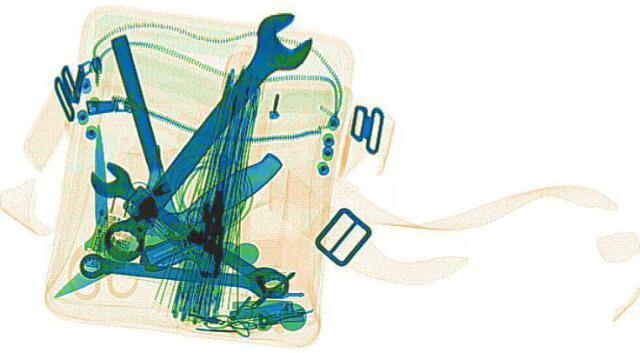Gun: (142, 188, 226, 273)
Knife: (35, 150, 299, 299), (106, 33, 184, 244), (80, 123, 114, 248)
Wrench: (86, 8, 330, 261), (72, 159, 308, 302), (72, 250, 284, 297)
